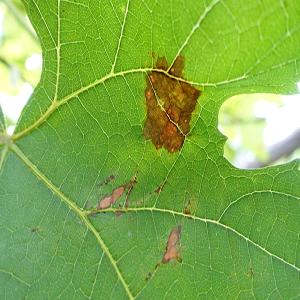Folha: (0, 0, 299, 298)
Fungo: (142, 52, 202, 154), (84, 169, 138, 217), (144, 223, 182, 281), (97, 178, 137, 210), (159, 121, 185, 153), (162, 224, 182, 264), (169, 55, 185, 77), (182, 195, 196, 215), (96, 174, 114, 188), (154, 177, 166, 193), (144, 271, 152, 281), (30, 226, 38, 232), (151, 51, 155, 58), (130, 216, 134, 222)
